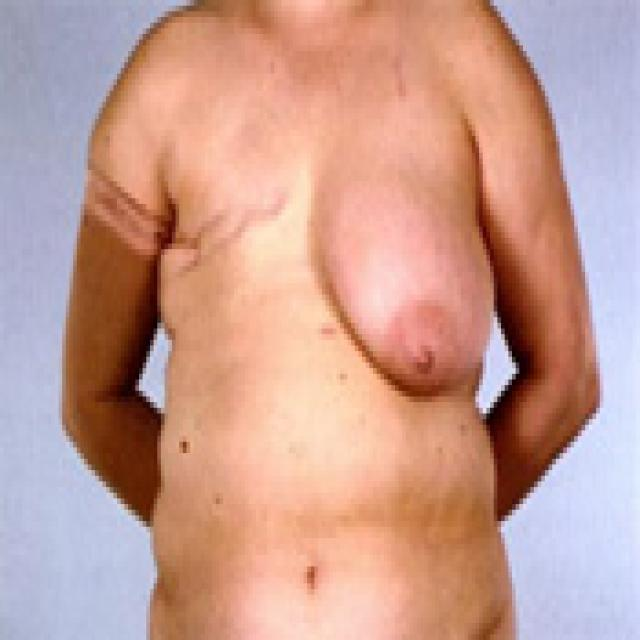Seno herido: (152, 164, 308, 380)
Seno ileso: (312, 164, 501, 421)
